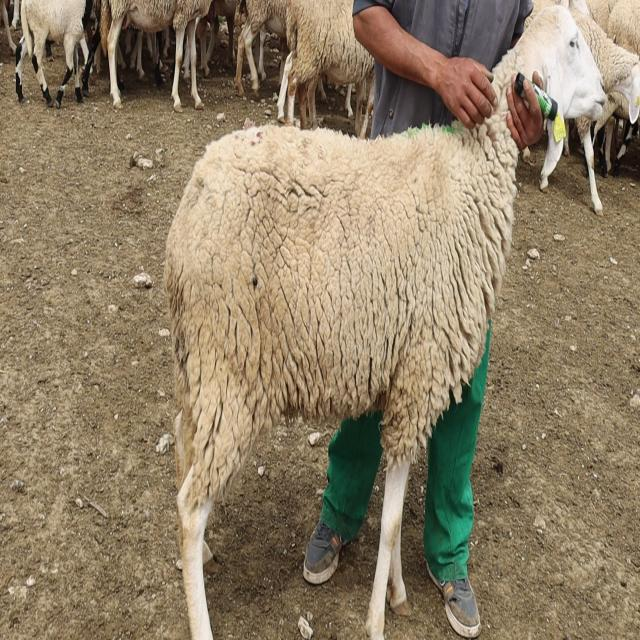Score_1: (164, 5, 607, 639)
